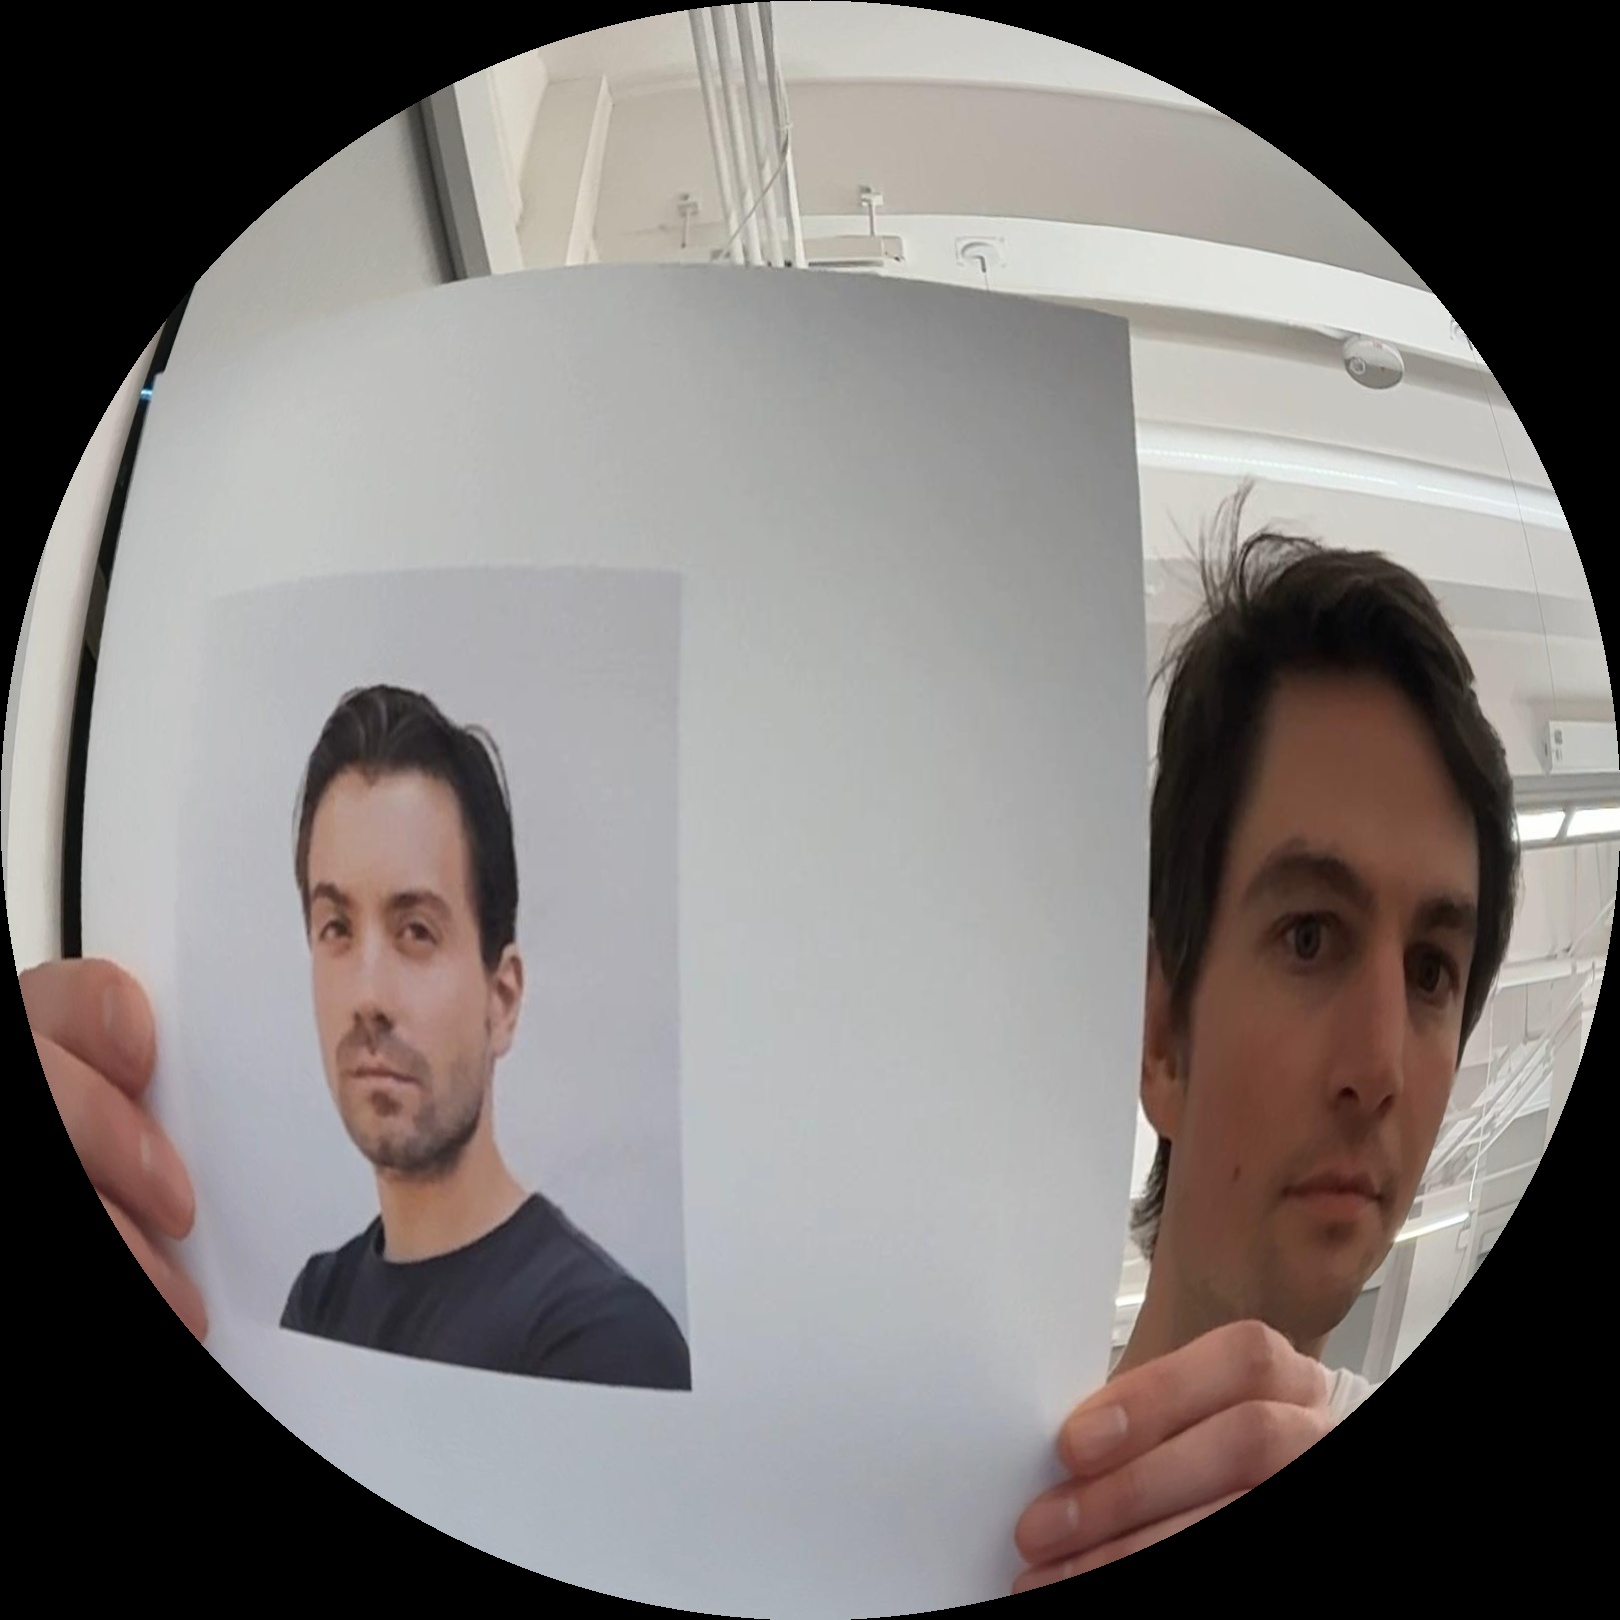face: (1106, 540, 1508, 1403), (294, 677, 540, 1192)
